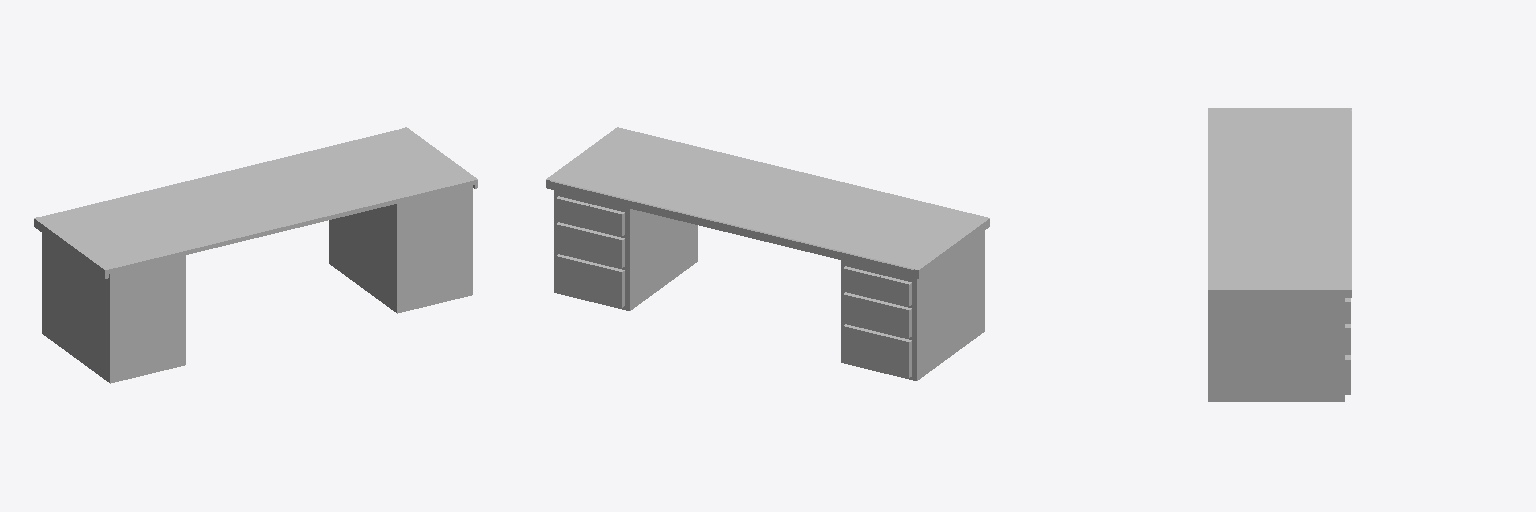
The model's file is desk.obj.
The picture shows the model from 3 angles: view 1: azimuth 30°, elevation 25°; view 2: azimuth 150°, elevation 25°; view 3: azimuth 270°, elevation 25°; orthographic projection.
Visible parts, largest first — view 1: Desk_Cube; view 2: Desk_Cube; view 3: Desk_Cube.
Part boxes in pixels (x1,y1,x2,y2): Desk_Cube: (34,127,477,383); Desk_Cube: (546,127,989,380); Desk_Cube: (1208,108,1351,401).
Size of the model in its own units: 7.09 by 2.08 by 2.36.